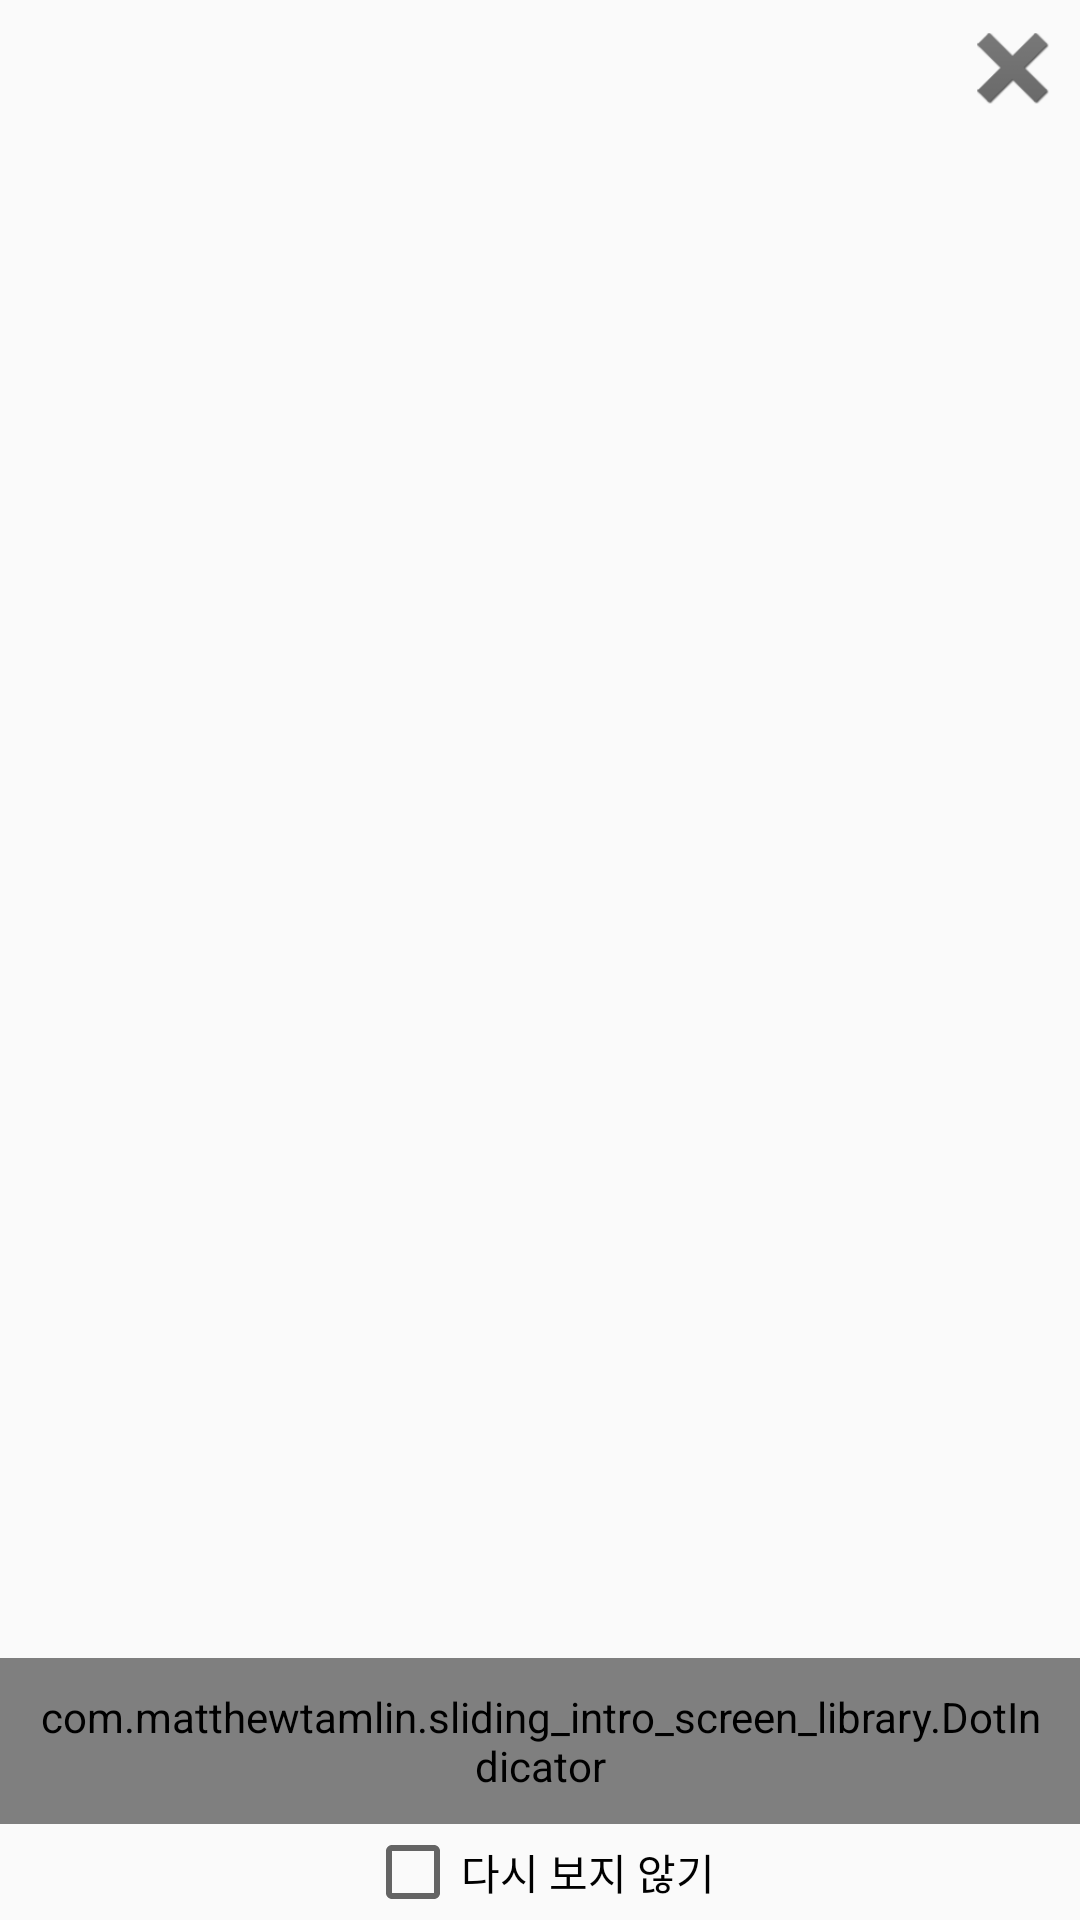

Named icons in this screenshot (1080x1920) and their centers, (x=x, y=y):
close: (x=1013, y=68)
